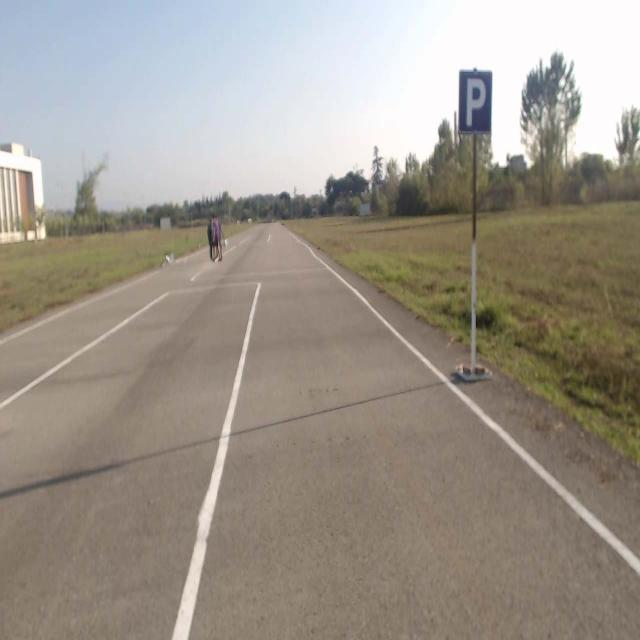park: (459, 70, 492, 134)
